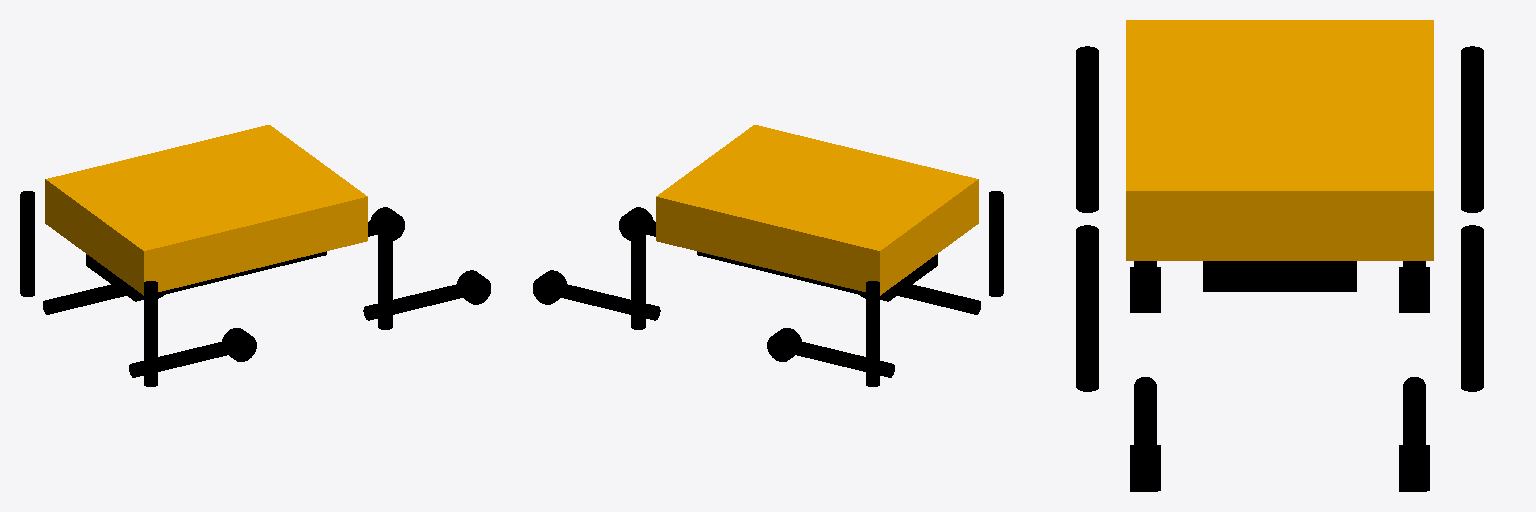
The robot description file, URDF, robot "Bittle":
<?xml version="1.0"?>
<robot name="Bittle">

    <material name="blue">
        <color rgba="0 0 0.8 1"/>
    </material>
    <material name="black">
        <color rgba="0 0 0 1"/>
    </material>
    <material name="yellow">
        <color rgba="1 0.7 0 1"/>
    </material>

    <link name="torso">       
        <visual>
            <geometry>
                <box size="0.105 0.08 0.02"/>
            </geometry>
            <material name="yellow"/>
            <origin xyz="0 0 0.0"/>
        </visual>
      
        <collision>
              <geometry>
                <box size="0.105 0.08 0.02"/>
              </geometry>
              <origin xyz="0 0 0.0"/>
        </collision>

        <inertial>
              <origin xyz="0 0 0.0"/>
              <mass value="0.111"/>
              <inertia ixx="0.0" iyy="0.0"  izz="0.0" ixy="0.0" ixz="0.0" iyz="0.0"/>
        </inertial>
    </link>

    <link name="battery">       
        <visual>
            <geometry>
                <box size="0.09 0.04 0.015"/>
            </geometry>
            <material name="black"/>
            <origin xyz="0 0 0.0"/>
        </visual>
      
        <collision>
              <geometry>
                 <box size="0.09 0.04 0.015"/>
              </geometry>
              <origin xyz="0 0 0.0"/>
        </collision>

        <inertial>
              <origin xyz="0 0 0.0"/>
              <mass value="0.068"/>
              <inertia ixx="0.0" iyy="0.0"  izz="0.0" ixy="0.0" ixz="0.0" iyz="0.0"/>
        </inertial>
    </link>


    <link name="left_upper_arm">
        <visual>
            <origin xyz="0.00 .00 -0.0225" rpy="0 0 0" />
            <geometry>
              <cylinder radius="0.003" length="0.045"/>
            </geometry>
            <material name="black"/>
        </visual>

        <collision>
            <geometry>
              <cylinder radius="0.003" length="0.045"/>
            </geometry>
            <origin xyz="0.00 .00 -0.0225" rpy="0 0 0" />
        </collision>

        <inertial>
            <mass value="0.005"/>
            <inertia ixx="0.0" ixy="0.0" ixz="0.0" iyy="0.0" iyz="0.0" izz="0.0"/>
        </inertial>
    </link>   

    <link name="right_upper_arm">
            <visual>
                <origin xyz="0.00 .00 -0.0225" rpy="0 0 0" />
                <geometry>
                  <cylinder radius="0.003" length="0.045"/>
                </geometry>
                <material name="black"/>
            </visual>

            <collision>
                <geometry>
                  <cylinder radius="0.003" length="0.045"/>
                </geometry>
                <origin xyz="0.00 .00 -0.0225" rpy="0 0 0" />
            </collision>

            <inertial>
                <mass value="0.005"/>
                <inertia ixx="0.0" ixy="0.0" ixz="0.0" iyy="0.0" iyz="0.0" izz="0.0"/>
            </inertial>
        </link>   



    <link name="left_lower_arm">
        <visual>
            <origin xyz="0.00 .00 -0.025" rpy="0 0 0" />
            <geometry>
              <cylinder radius="0.003" length="0.05"/>
            </geometry>
            <material name="black"/>
        </visual>

        <collision>
            <geometry>
              <cylinder radius="0.003" length="0.05"/>
            </geometry>
            <origin xyz="0.00 .00 -0.025" rpy="0 0 0" />
        </collision>

        <inertial>
            <mass value="0.017"/>
            <inertia ixx="0.0" ixy="0.0" ixz="0.0" iyy="0.0" iyz="0.0" izz="0.0"/>
        </inertial>
    </link>   




    

    <link name="right_lower_arm">
        <visual>
            <origin xyz="0.00 .00 -0.025" rpy="0 0 0" />
            <geometry>
              <cylinder radius="0.003" length="0.05"/>
            </geometry>
            <material name="black"/>
        </visual>

        <collision>
            <geometry>
              <cylinder radius="0.003" length="0.05"/>
            </geometry>
            <origin xyz="0.00 .00 -0.025" rpy="0 0 0" />
        </collision>

        <inertial>
            <mass value="0.017"/>
            <inertia ixx="0.0" ixy="0.0" ixz="0.0" iyy="0.0" iyz="0.0" izz="0.0"/>
        </inertial>
    </link>   

    <link name="right_upper_leg">
        <visual>
            <origin xyz="0.00 .00 -0.0225" rpy="0 0 0" />
            <geometry>
              <cylinder radius="0.003" length="0.045"/>
            </geometry>
            <material name="black"/>
        </visual>

        <collision>
            <geometry>
              <cylinder radius="0.003" length="0.045"/>
            </geometry>
            <origin xyz="0.00 .00 -0.0225" rpy="0 0 0" />
        </collision>

        <inertial>
            <mass value="0.005"/>
            <inertia ixx="0.0" ixy="0.0" ixz="0.0" iyy="0.0" iyz="0.0" izz="0.0"/>
        </inertial>
    </link>   

    <link name="right_lower_leg">
        <visual>
            <origin xyz="0.00 .00 -0.025" rpy="0 0 0" />
            <geometry>
              <cylinder radius="0.003" length="0.05"/>
            </geometry>
            <material name="black"/>
        </visual>

        <collision>
            <geometry>
              <cylinder radius="0.003" length="0.05"/>
            </geometry>
            <origin xyz="0.00 .00 -0.025" rpy="0 0 0" />
        </collision>

        <inertial>
            <mass value="0.017"/>
            <inertia ixx="0.0" ixy="0.0" ixz="0.0" iyy="0.0" iyz="0.0" izz="0.0"/>
        </inertial>
    </link>   


    <link name="left_upper_leg">
        <visual>
            <origin xyz="0.00 .00 -0.0225" rpy="0 0 0" />
            <geometry>
              <cylinder radius="0.003" length="0.045"/>
            </geometry>
            <material name="black"/>
        </visual>

        <collision>
            <geometry>
              <cylinder radius="0.003" length="0.045"/>
            </geometry>
            <origin xyz="0.00 .00 -0.0225" rpy="0 0 0" />
        </collision>

        <inertial>
            <mass value="0.005"/>
            <inertia ixx="0.0" ixy="0.0" ixz="0.0" iyy="0.0" iyz="0.0" izz="0.0"/>
        </inertial>
    </link>   

    <link name="left_lower_leg">
        <visual>
            <origin xyz="0.00 .00 -0.025" rpy="0 0 0" />
            <geometry>
              <cylinder radius="0.003" length="0.05"/>
            </geometry>
            <material name="black"/>
        </visual>

        <collision>
            <geometry>
              <cylinder radius="0.003" length="0.05"/>
            </geometry>
            <origin xyz="0.00 .00 -0.025" rpy="0 0 0" />
        </collision>

        <inertial>
            <mass value="0.017"/>
            <inertia ixx="0.0" ixy="0.0" ixz="0.0" iyy="0.0" iyz="0.0" izz="0.0"/>
        </inertial>
    </link>   

    <link name="left_front_paw">
        <visual>
            <origin xyz="0.00 0.0 0.0" rpy="1.57 0 0" />
            <geometry>
              <cylinder radius="0.006" length="0.008"/>
            </geometry>
            <material name="black"/>
        </visual>

        <collision>
            <origin xyz="0.00 0.0 0.0" rpy="1.57 0 0" />
            <geometry>
              <cylinder radius="0.006" length="0.005"/>
            </geometry>
            <material name="black"/>
        </collision>

		<contact>
			<friction_anchor/>
			<stiffness value="2000.0"/>
			<damping value="20.0"/>
			<spinning_friction value=".3"/>
			<lateral_friction value="1"/>
		</contact>

        <inertial>
            <mass value="0.0005"/>
            <inertia ixx="0.0" ixy="0.0" ixz="0.0" iyy="0.0" iyz="0.0" izz="0.0"/>
        </inertial>
    </link> 

    <link name="right_front_paw">
        <visual>
            <origin xyz="0.00 0.0 0.0" rpy="1.57 0 0" />
            <geometry>
              <cylinder radius="0.006" length="0.008"/>
            </geometry>
            <material name="black"/>
        </visual>

        <collision>
            <origin xyz="0.00 0.0 0.0" rpy="1.57 0 0" />
            <geometry>
              <cylinder radius="0.006" length="0.005"/>
            </geometry>
            <material name="black"/>
        </collision>

		<contact>
			<friction_anchor/>
			<stiffness value="2000.0"/>
			<damping value="20.0"/>
			<spinning_friction value=".3"/>
			<lateral_friction value="1"/>
		</contact>

        <inertial>
            <mass value="0.0005"/>
            <inertia ixx="0.0" ixy="0.0" ixz="0.0" iyy="0.0" iyz="0.0" izz="0.0"/>
        </inertial>
    </link> 
    

    <link name="left_back_paw">
        <visual>
            <origin xyz="0.00 0.0 0.0" rpy="1.57 0 0" />
            <geometry>
              <cylinder radius="0.006" length="0.008"/>
            </geometry>
            <material name="black"/>
        </visual>

        <collision>
            <origin xyz="0.00 0.0 0.0" rpy="1.57 0 0" />
            <geometry>
              <cylinder radius="0.006" length="0.005"/>
            </geometry>
            <material name="black"/>
        </collision>

		<contact>
			<friction_anchor/>
			<stiffness value="2000.0"/>
			<damping value="20.0"/>
			<spinning_friction value=".3"/>
			<lateral_friction value="1"/>
		</contact>

        <inertial>
            <mass value="0.0005"/>
            <inertia ixx="0.0" ixy="0.0" ixz="0.0" iyy="0.0" iyz="0.0" izz="0.0"/>
        </inertial>
    </link> 

    <link name="right_back_paw">
        <visual>
            <origin xyz="0.00 0.0 0.0" rpy="1.57 0 0" />
            <geometry>
              <cylinder radius="0.006" length="0.008"/>
            </geometry>
            <material name="black"/>
        </visual>

        <collision>
            <origin xyz="0.00 0.0 0.0" rpy="1.57 0 0" />
            <geometry>
              <cylinder radius="0.006" length="0.005"/>
            </geometry>
            <material name="black"/>
        </collision>

		<contact>
			<friction_anchor/>
			<stiffness value="2000.0"/>
			<damping value="20.0"/>
			<spinning_friction value=".3"/>
			<lateral_friction value="1"/>
		</contact>

        <inertial>
            <mass value="0.0005"/>
            <inertia ixx="0.0" ixy="0.0" ixz="0.0" iyy="0.0" iyz="0.0" izz="0.0"/>
        </inertial>
    </link> 

    <joint name="battery" type="fixed">
          <origin xyz="0.00 0.0 -0.015" rpy="0 0 0"/>
          <parent link="torso"/>
          <child link="battery"/>     
    </joint>

    <joint name="shoulder_left" type="revolute">
          <axis xyz="0 1 0"/>
          <origin xyz="0.055 0.05 0" rpy="0 0 0"/>
          <parent link="torso"/>
          <child link="left_upper_arm"/>
          <limit effort="0" lower="-1.57" upper="1.57" velocity="0"/>
    </joint>

    <joint name="shoulder_right" type="revolute">
          <axis xyz="0 1 0"/>
          <origin xyz="0.055 -0.05 0" rpy="0 0 0"/>
          <parent link="torso"/>
          <child link="right_upper_arm"/>
          <limit effort="0" lower="-1.57" upper="1.57" velocity="0"/>
    </joint>

    <joint name="hip_right" type="revolute">
          <axis xyz="0 1 0"/>
          <origin xyz="-0.055 -0.05 0" rpy="0 0 0"/>
          <parent link="torso"/>
          <child link="right_upper_leg"/>
          <limit effort="0" lower="-1.57" upper="2.00" velocity="0"/>
    </joint>

    <joint name="hip_left" type="revolute">
          <axis xyz="0 1 0"/>
          <origin xyz="-0.055 0.05 0" rpy="0 0 0"/>
          <parent link="torso"/>
          <child link="left_upper_leg"/>
          <limit effort="0" lower="-1.57" upper="2.00" velocity="0"/>
    </joint>

    <joint name="elbow_left" type="revolute">
          <axis xyz="0 1 0"/>
          <origin xyz="0.00 -0.015 -0.045" rpy="0 -1.57 0"/>
          <parent link="left_upper_arm"/>
          <child link="left_lower_arm"/>
          <limit effort="0" lower="-1.57" upper="1.57" velocity="0"/>
    </joint>

    <joint name="elbow_right" type="revolute">
          <axis xyz="0 1 0"/>
          <origin xyz="0.00 0.015 -0.045" rpy="0 -1.57 0"/>
          <parent link="right_upper_arm"/>
          <child link="right_lower_arm"/>
          <limit effort="0" lower="-1.57" upper="1.57" velocity="0"/>
    </joint>


    <joint name="knee_right" type="revolute">
          <axis xyz="0 1 0"/>
          <origin xyz="0.00 0.015 -0.045" rpy="0 -1.57 0"/>
          <parent link="right_upper_leg"/>
          <child link="right_lower_leg"/>
          <limit effort="0" lower="-1.57" upper="1.57" velocity="0"/>
    </joint>   

    <joint name="knee_left" type="revolute">
          <axis xyz="0 1 0"/>
          <origin xyz="0.00 -0.015 -0.045" rpy="0 -1.57 0"/>
          <parent link="left_upper_leg"/>
          <child link="left_lower_leg"/>
          <limit effort="0" lower="-1.57" upper="1.57" velocity="0"/>
    </joint>    

    <joint name="paw_front_left" type="fixed">
          <origin xyz="0.00 0.0 -0.05" rpy="0 -1.57 0"/>
          <parent link="left_lower_arm"/>
          <child link="left_front_paw"/>     
    </joint>

    <joint name="paw_front_right" type="fixed">
          <origin xyz="0.00 0.0 -0.05" rpy="0 -1.57 0"/>
          <parent link="right_lower_arm"/>
          <child link="right_front_paw"/>     
    </joint>

    <joint name="paw_back_left" type="fixed">
          <origin xyz="0.00 0.0 -0.05" rpy="0 -1.57 0"/>
          <parent link="left_lower_leg"/>
          <child link="left_back_paw"/>     
    </joint>

    <joint name="paw_back_right" type="fixed">
          <origin xyz="0.00 0.0 -0.05" rpy="0 -1.57 0"/>
          <parent link="right_lower_leg"/>
          <child link="right_back_paw"/>     
    </joint>

</robot>

--- Render facts (derived) ---
3 views of the same robot in one strip: view 1: azimuth 30°, elevation 25°; view 2: azimuth 150°, elevation 25°; view 3: azimuth 270°, elevation 25° (orthographic).
Robot: Bittle — 14 links, 13 joints (8 revolute, 5 fixed); root link torso; default pose: all joints at 0.
Visible links, largest first — view 1: torso, right_upper_arm, left_upper_leg, right_upper_leg, battery, right_lower_leg, right_lower_arm, left_lower_leg, right_front_paw, right_back_paw, left_front_paw; view 2: torso, left_upper_arm, right_upper_leg, left_upper_leg, battery, left_lower_leg, left_lower_arm, right_lower_leg, left_front_paw, left_back_paw, right_front_paw; view 3: torso, battery, right_upper_leg, left_upper_leg, left_upper_arm, right_upper_arm, left_lower_arm, right_lower_arm, left_front_paw, right_front_paw, left_back_paw, right_back_paw.
Link boxes in pixels (x1,y1,x2,y2): torso: (45,125,367,295); right_upper_arm: (378,224,392,329); left_upper_leg: (20,191,34,296); right_upper_leg: (144,281,157,386); battery: (86,251,326,301); right_lower_leg: (129,340,229,377); right_lower_arm: (363,283,464,320); left_lower_leg: (43,284,126,314); right_front_paw: (457,270,490,304); right_back_paw: (222,328,256,361); left_front_paw: (370,207,404,240); torso: (656,125,978,295); left_upper_arm: (631,224,645,329); right_upper_leg: (989,191,1003,296); left_upper_leg: (866,281,879,386); battery: (697,251,937,301); left_lower_leg: (794,340,894,377); left_lower_arm: (559,283,660,320); right_lower_leg: (897,284,980,314); left_front_paw: (533,270,566,304); left_back_paw: (767,328,801,361); right_front_paw: (619,207,653,240); torso: (1126,20,1433,260); battery: (1203,261,1356,291); right_upper_leg: (1076,46,1098,212); left_upper_leg: (1461,46,1483,212); left_upper_arm: (1461,225,1483,391); right_upper_arm: (1076,225,1098,391); left_lower_arm: (1403,377,1425,444); right_lower_arm: (1134,377,1156,444); left_front_paw: (1399,445,1429,491); right_front_paw: (1130,445,1160,491); left_back_paw: (1399,267,1429,312); right_back_paw: (1130,267,1160,312).
Size in the robot's own frame: 0.169 by 0.106 by 0.061 metres.
Geometry: primitives only (box / cylinder / sphere), no mesh files.